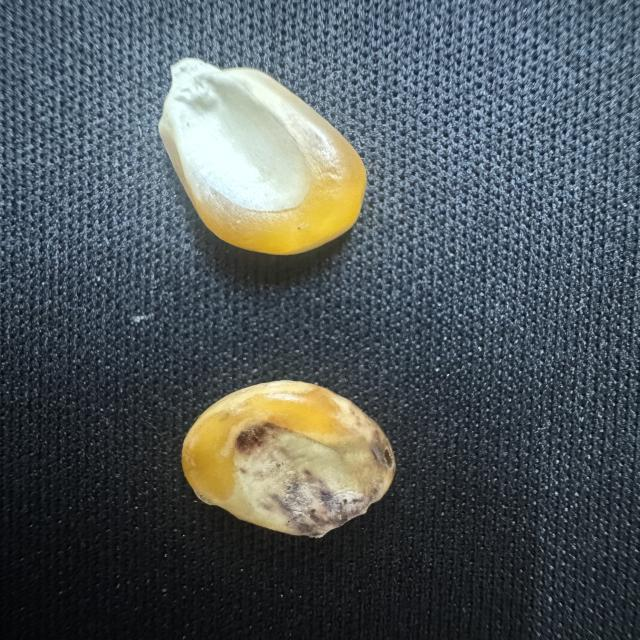Bad-Seed: (172, 370, 402, 546)
Good-Seed: (153, 46, 372, 275)
